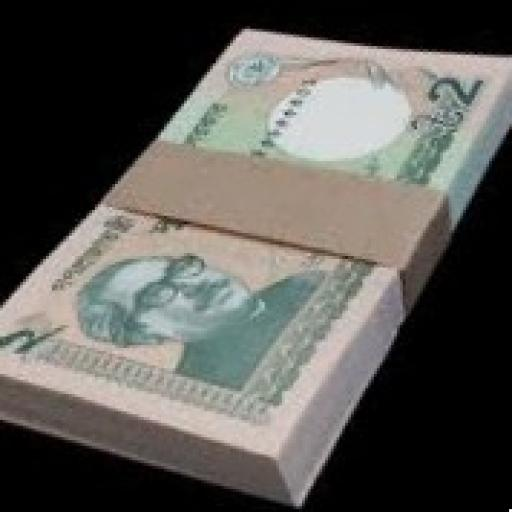2taka: (1, 29, 508, 452)
